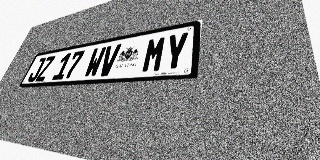1: (52, 52, 74, 80)
7: (62, 50, 85, 79)
J: (26, 57, 47, 82)
M: (141, 35, 167, 73)
V: (97, 44, 122, 77)
W: (83, 46, 107, 78)
Y: (162, 31, 189, 72)
Z: (35, 56, 56, 81)
